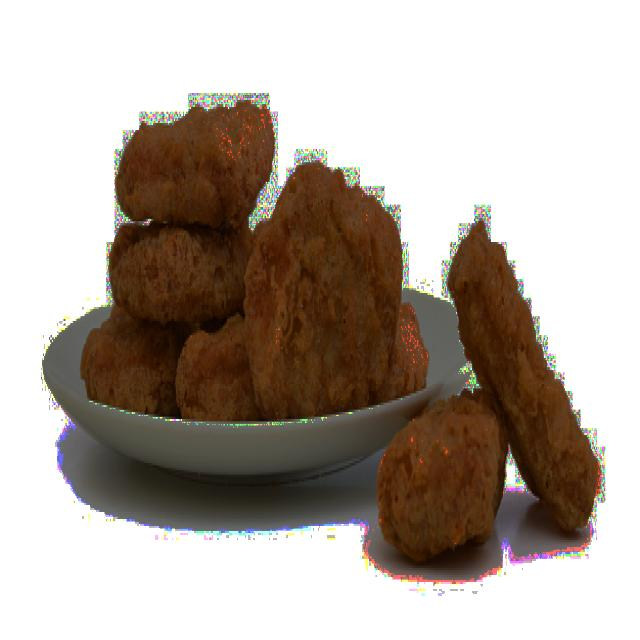chicken_nuggets: (451, 194, 617, 599), (242, 142, 415, 434), (373, 374, 516, 580), (110, 85, 279, 233), (96, 210, 264, 312), (77, 295, 192, 434), (180, 326, 260, 417)
